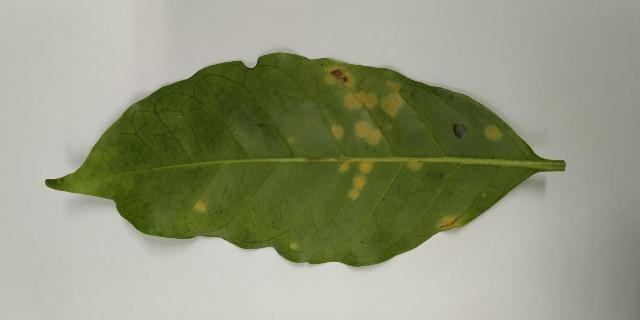miner: (326, 65, 404, 116), (355, 120, 381, 144), (438, 216, 462, 231), (350, 177, 366, 198), (453, 122, 466, 138), (331, 125, 344, 140), (359, 160, 371, 173), (487, 127, 499, 138), (409, 161, 425, 169), (195, 202, 206, 211), (339, 161, 348, 170), (464, 225, 465, 226), (462, 226, 463, 226)
